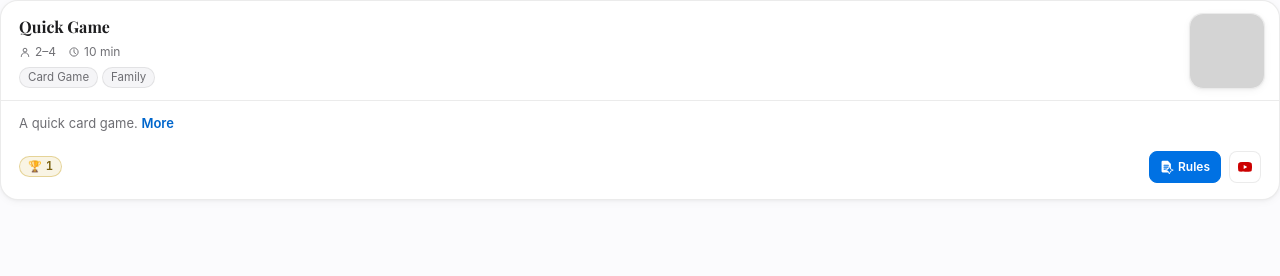
GameCard › renders an award badge that lists the wins when opened
Click the button "🏆 1" at point(41, 167), box 19,156 -> 62,177
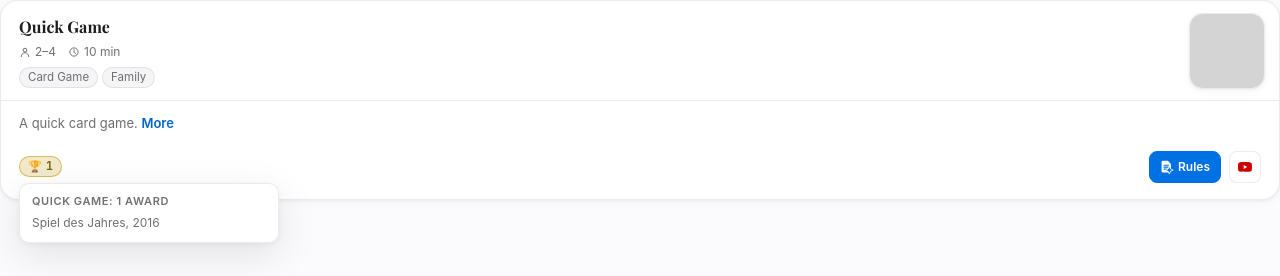
Expected: the list item shows "Spiel des Jahres", 32,215 -> 160,230
